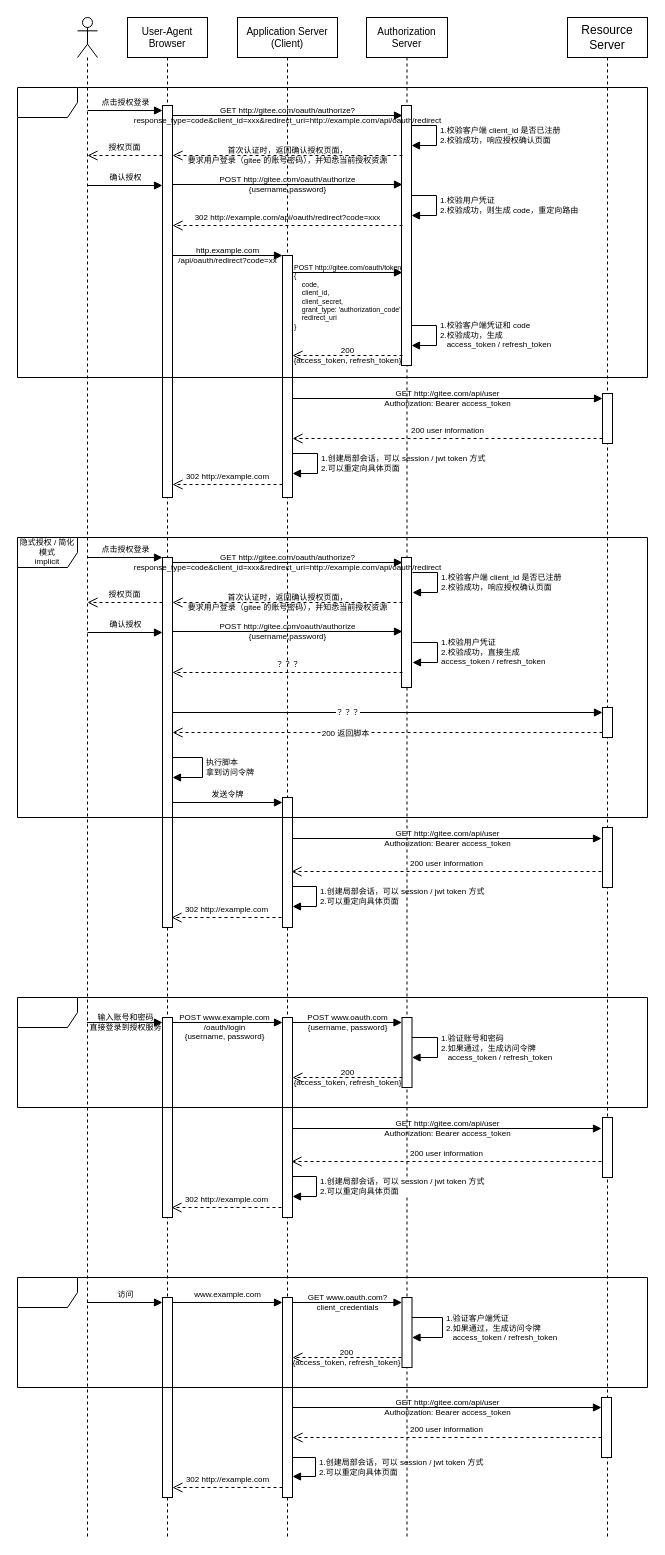
Some shapes in this 665 by 1555 pixel diagram are drawn without their labels. The centre of each missing label's shape, as x and y in pixels:
"客户端凭证模式 Client Credentials" belongs at pixel 332 1332.
"密码模式 Password Credentials" belongs at pixel 332 1052.
"授权码模式Authorization Code" belongs at pixel 332 232.
